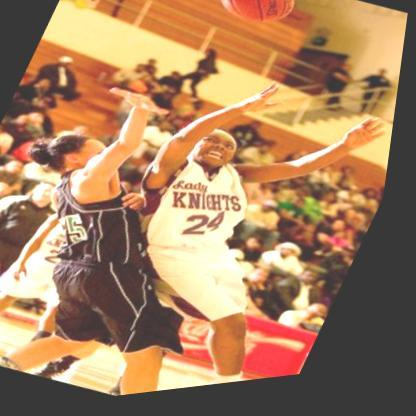basketball: (208, 0, 307, 44)
